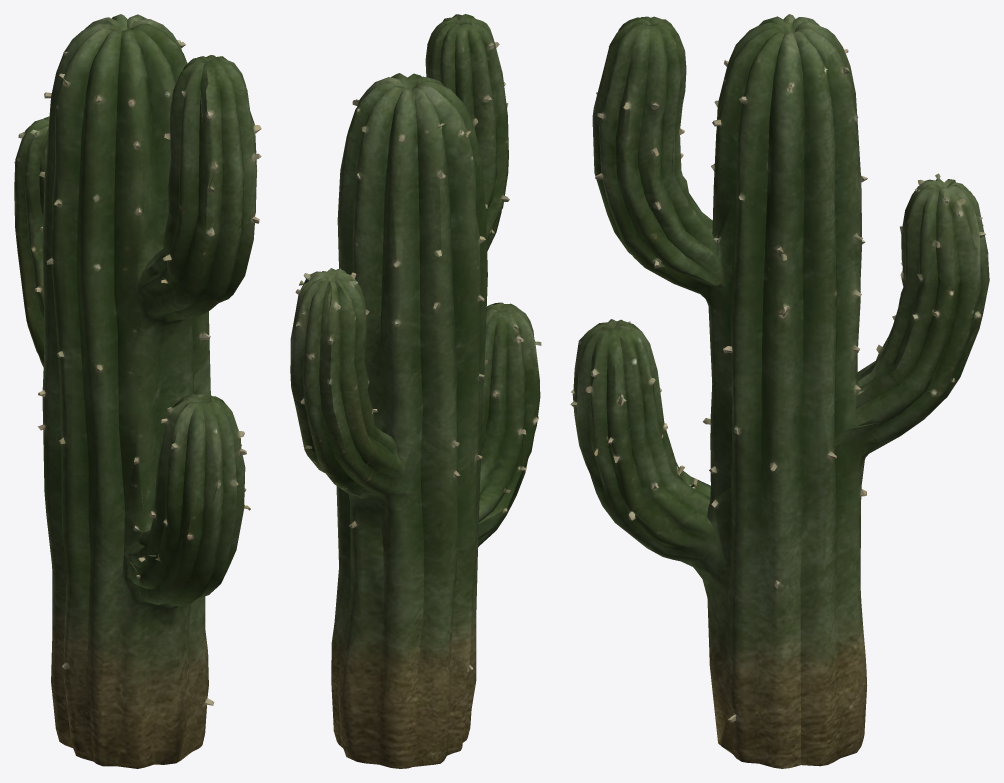
3 renders of one model, left to right at view 1: azimuth 30°, elevation 25°; view 2: azimuth 150°, elevation 25°; view 3: azimuth 270°, elevation 25°, orthographic. The views are drawn at different scales.
Visible parts, largest first — view 1: desert-cactus; view 2: desert-cactus; view 3: desert-cactus.
Part boxes in pixels (bbox=[...]): desert-cactus: bbox=[14, 14, 261, 768]; desert-cactus: bbox=[290, 14, 541, 768]; desert-cactus: bbox=[570, 14, 989, 768].
Size of the model in its own units: 0.5343 by 2.4 by 1.26.
Materials: 1 (1 with a texture image).
